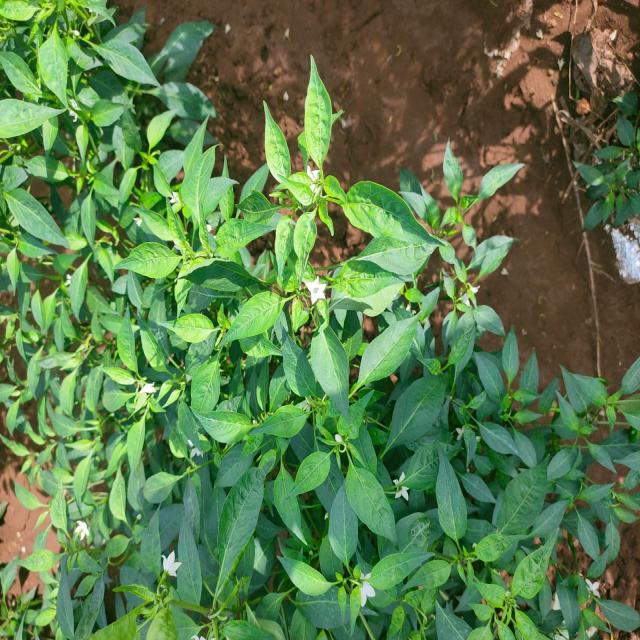Mosaic_virus: (256, 90, 640, 640), (0, 0, 254, 640)
